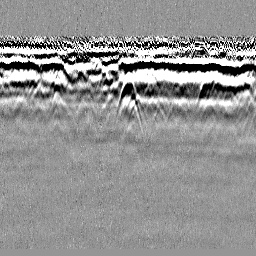cavity: (114, 72, 143, 128)
